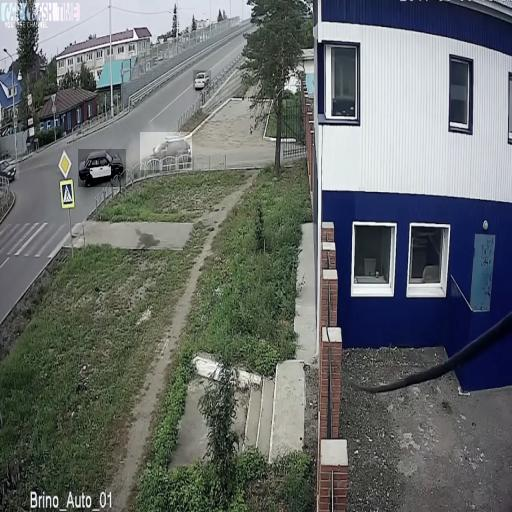小汽车: (140, 132, 192, 170), (78, 149, 126, 187), (0, 159, 19, 179), (193, 70, 211, 90)
